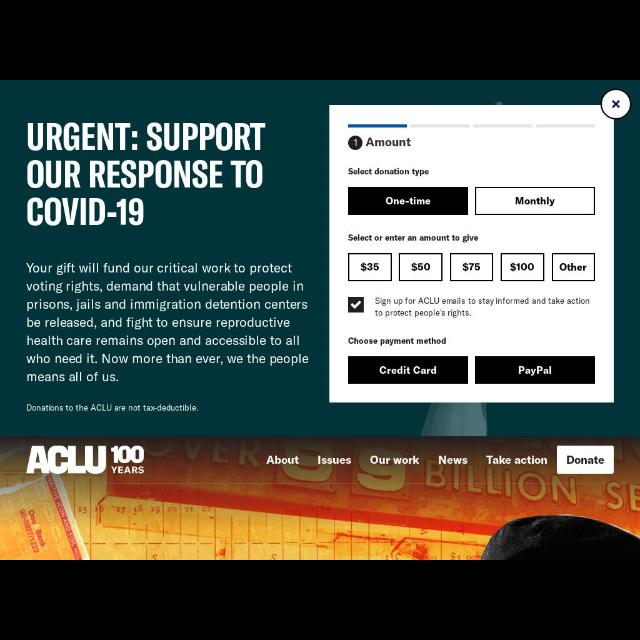backgroundimage: (1, 437, 639, 559)
button: (602, 90, 630, 120)
checkbox: (348, 298, 364, 312)
image: (27, 446, 144, 474), (348, 136, 362, 150)
pageindicator: (349, 124, 595, 128)
text: (27, 264, 309, 382), (27, 123, 265, 225), (375, 298, 589, 318), (348, 234, 478, 242), (26, 405, 198, 411), (348, 338, 446, 346), (349, 168, 429, 176), (487, 456, 547, 464), (380, 366, 436, 374), (371, 456, 419, 464), (366, 138, 412, 146), (386, 197, 430, 205), (516, 197, 554, 206), (519, 366, 551, 376), (318, 456, 352, 464), (267, 456, 299, 464), (439, 456, 467, 464), (511, 263, 534, 271), (412, 262, 430, 272), (362, 262, 378, 272), (560, 264, 586, 270), (464, 263, 481, 271)
textbutton: (349, 188, 467, 215), (348, 357, 468, 383), (475, 357, 595, 383), (476, 189, 594, 215), (557, 446, 613, 474), (349, 253, 391, 280), (502, 253, 544, 280), (401, 253, 442, 280), (451, 253, 492, 280), (552, 254, 594, 280)
